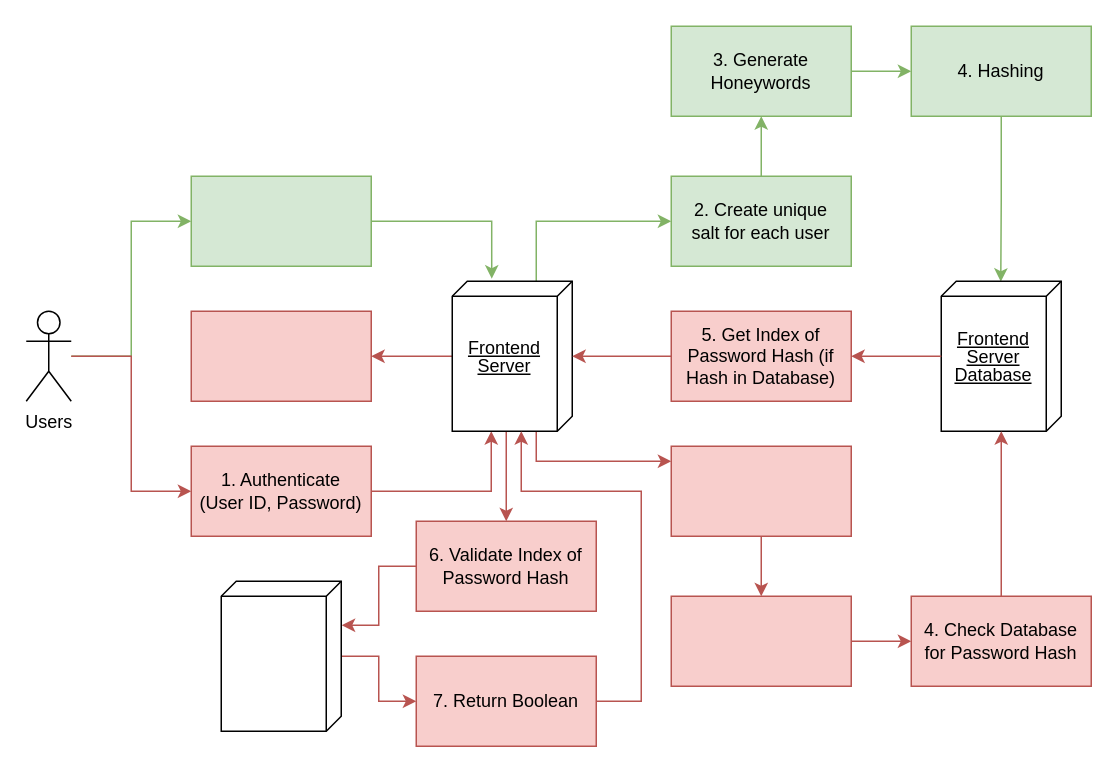
This 1118x773 diagram has some shape labels left out. The shapes that lost their labels are listed below. From the top down, each one's centre as x and y in pixels, then its label:
the point at 280,220: 1. Create Account (User ID, Password)
the point at 280,355: 8. Raise Alert if HoneyCheck Fails
the point at 760,490: 2. Get User Salt
the point at 280,655: Honey-C hecker
the point at 760,640: 3. Generate Password Hash
